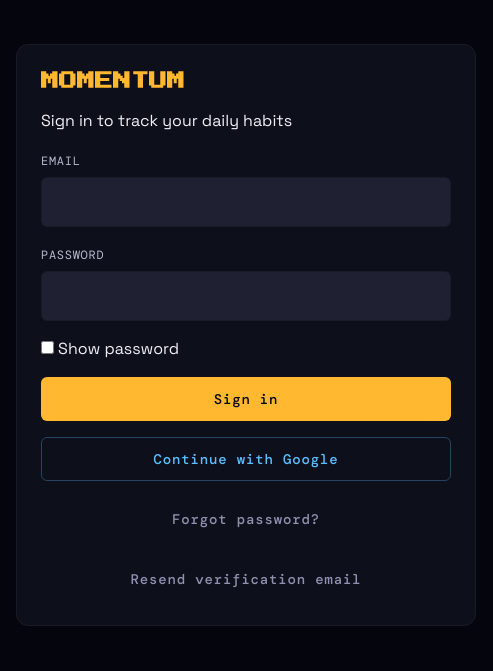
it: SignIn error paths › shows a connection error when signIn throws
Type "user@example.com" into the field labelled "Email" at {"x": 246, "y": 202}, box [41,177,451,227]
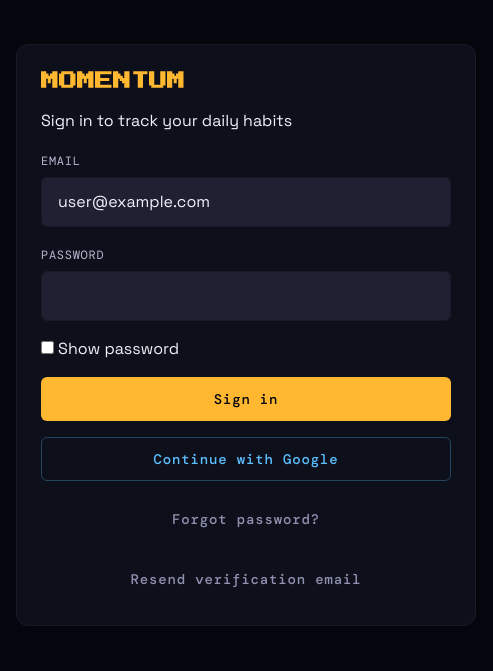
Type "pass" into the password field labelled "Password" at {"x": 246, "y": 296}, box [41,271,451,321]
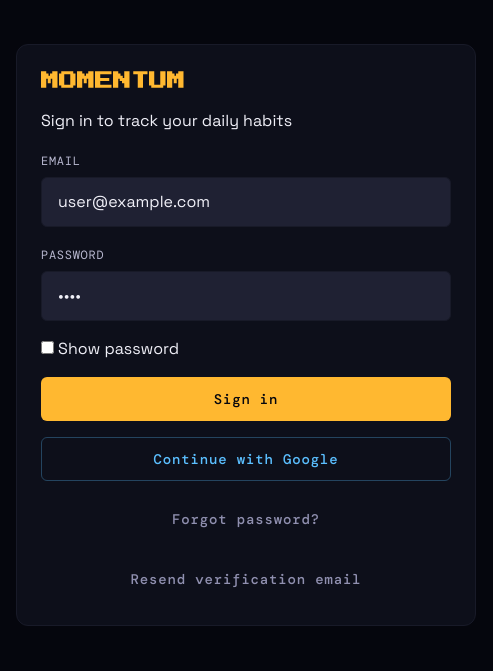
Click the button "Sign in" at {"x": 246, "y": 399}, box [41,377,451,421]
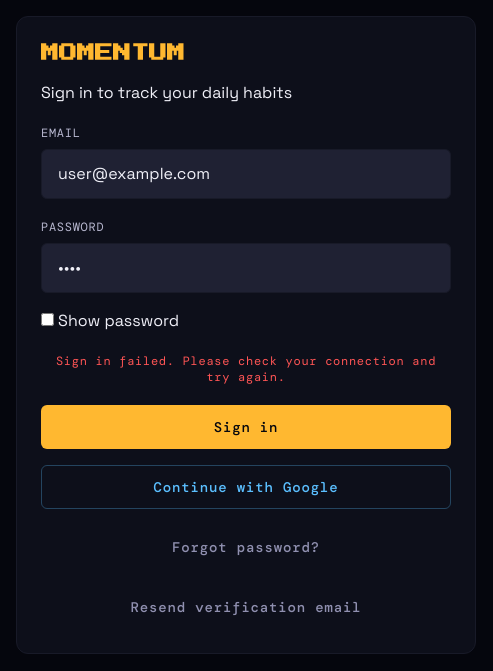
Expected: the message reads "Sign in failed. Please check your connection and try again.", [56,353,436,385]
